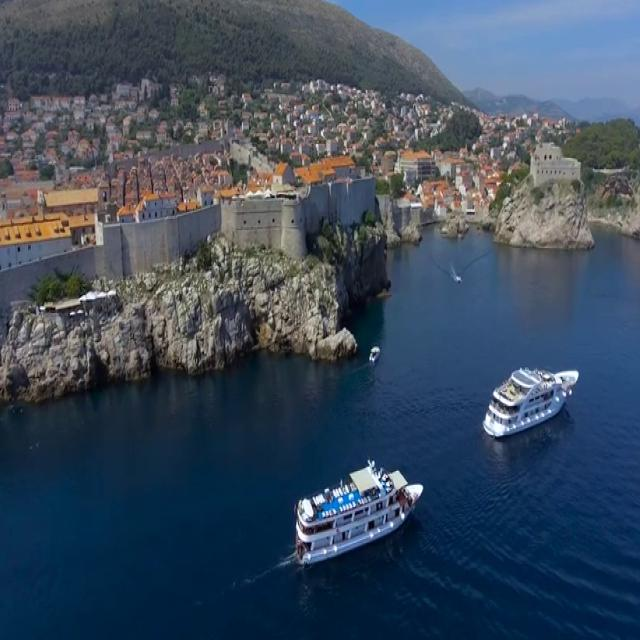houseboat: (369, 343, 384, 364), (453, 272, 463, 283)
passenger ship: (292, 463, 425, 565), (485, 365, 580, 440)
